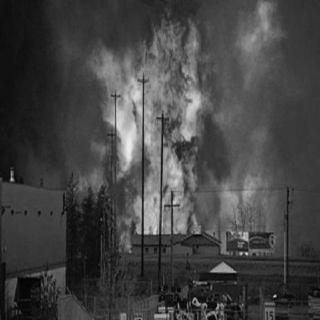Fire: (95, 13, 211, 227)
